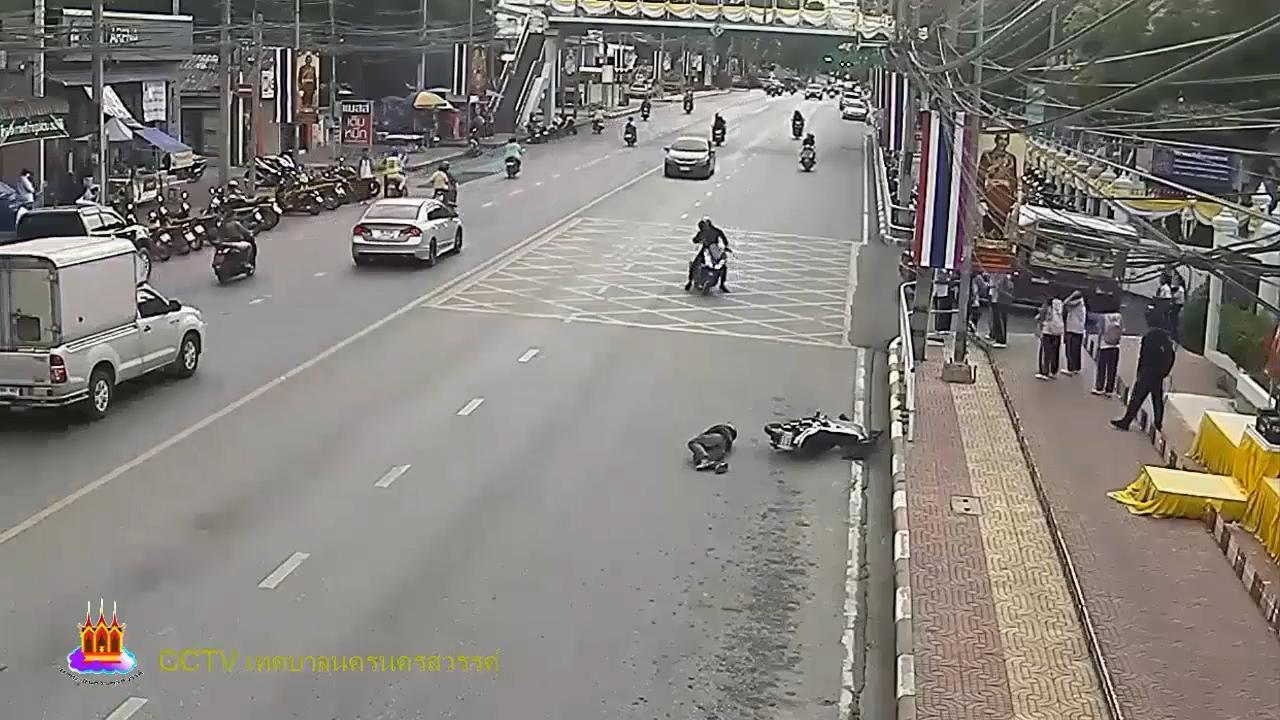accident: (683, 416, 739, 473)
